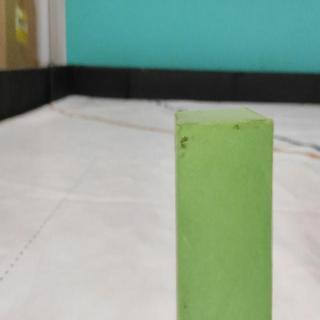greenbox: (175, 110, 273, 320)
